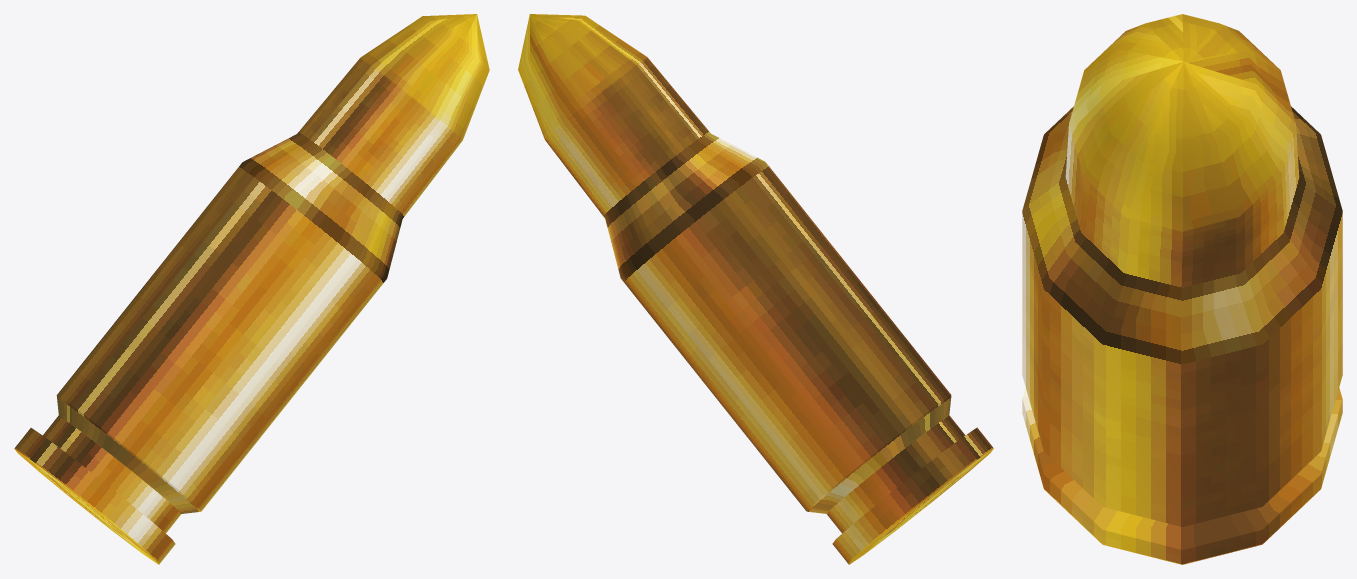
3 views of the same model, side by side, from view 1: azimuth 30°, elevation 25°; view 2: azimuth 150°, elevation 25°; view 3: azimuth 270°, elevation 25° (orthographic). The views are drawn at different scales.
Parts seen in each view (by area): view 1: bullet; view 2: bullet; view 3: bullet.
Boxes of the visible parts, left/top/right/bottom form: bullet: left=14, top=14, right=489, bottom=564; bullet: left=518, top=14, right=993, bottom=564; bullet: left=1022, top=14, right=1342, bottom=564.
Size of the model in its own units: 139 by 136 by 49.9.
1 material, 1 textured.
